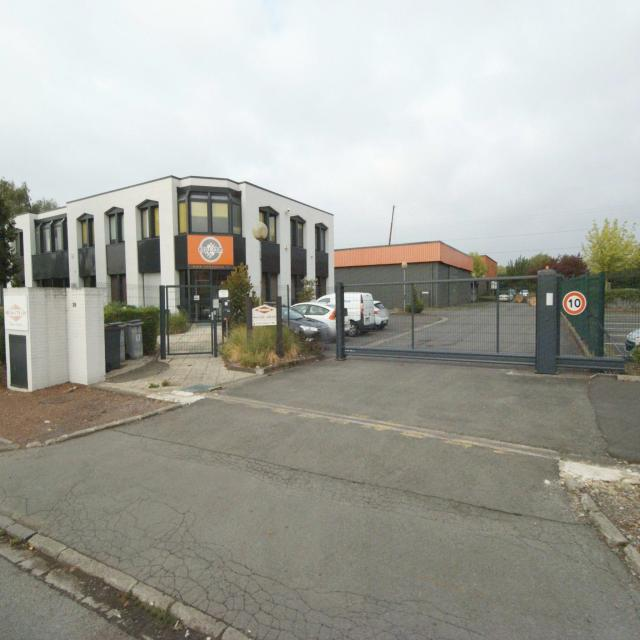car: (246, 302, 332, 344), (318, 291, 376, 334), (290, 300, 352, 340), (374, 300, 389, 329), (497, 289, 516, 301)
